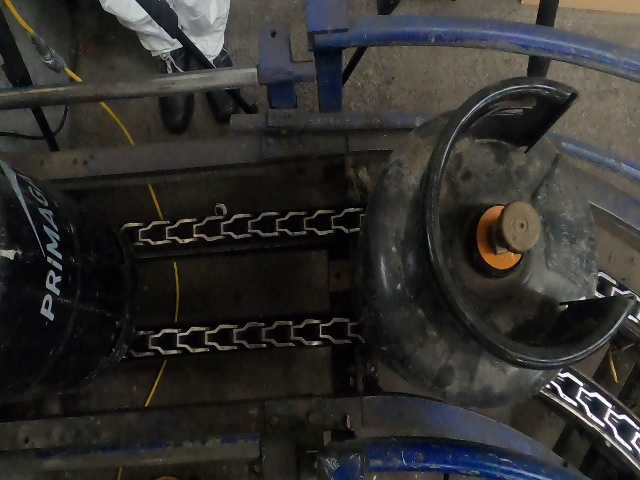gas_bottle: (3, 1, 632, 480)
